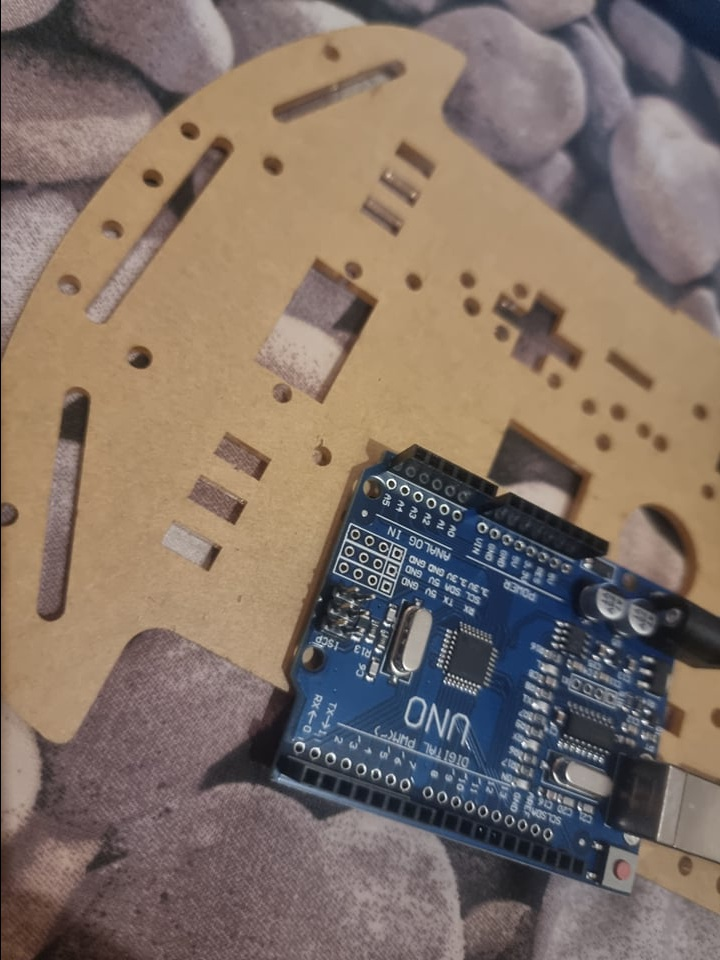UNO R3: (265, 444, 719, 893)
